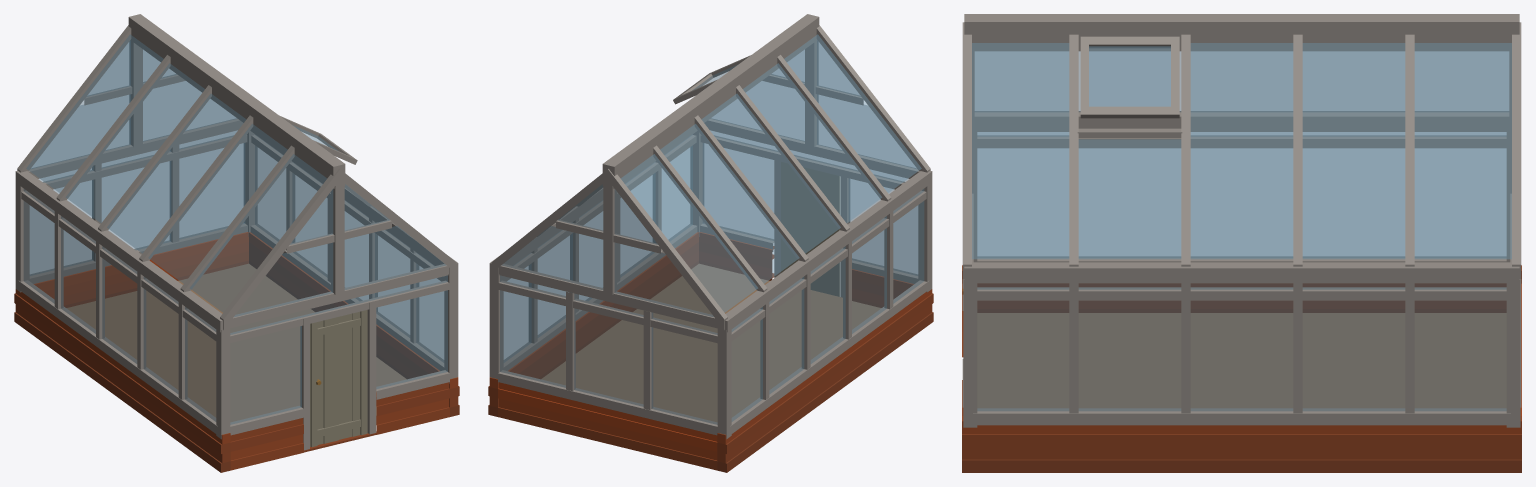
Rendered from greenhouse-53ab6d.glb.
The picture shows the model from 3 angles, left to right: view 1: azimuth 30°, elevation 25°; view 2: azimuth 150°, elevation 25°; view 3: azimuth 270°, elevation 25°; orthographic projection. The views are drawn at different scales.
Parts seen in each view (by area): view 1: glasshouse, glazing, door-leaf, vent-sash; view 2: glasshouse, glazing, door-leaf, vent-sash; view 3: glasshouse, glazing, vent-glass, vent-sash.
Part boxes in pixels (left/top/right/bottom): glasshouse: left=14, top=14, right=459, bottom=472; glazing: left=23, top=34, right=447, bottom=424; door-leaf: left=310, top=310, right=367, bottom=447; vent-sash: left=279, top=115, right=357, bottom=164; glasshouse: left=488, top=14, right=933, bottom=472; glazing: left=500, top=34, right=924, bottom=424; door-leaf: left=781, top=162, right=840, bottom=296; vent-sash: left=673, top=55, right=750, bottom=104; glasshouse: left=962, top=14, right=1521, bottom=472; glazing: left=972, top=43, right=1511, bottom=411; vent-glass: left=1089, top=46, right=1170, bottom=106; vent-sash: left=1080, top=36, right=1179, bottom=118.
Bounding box in the file's own units: 4 × 4.45 × 6.
